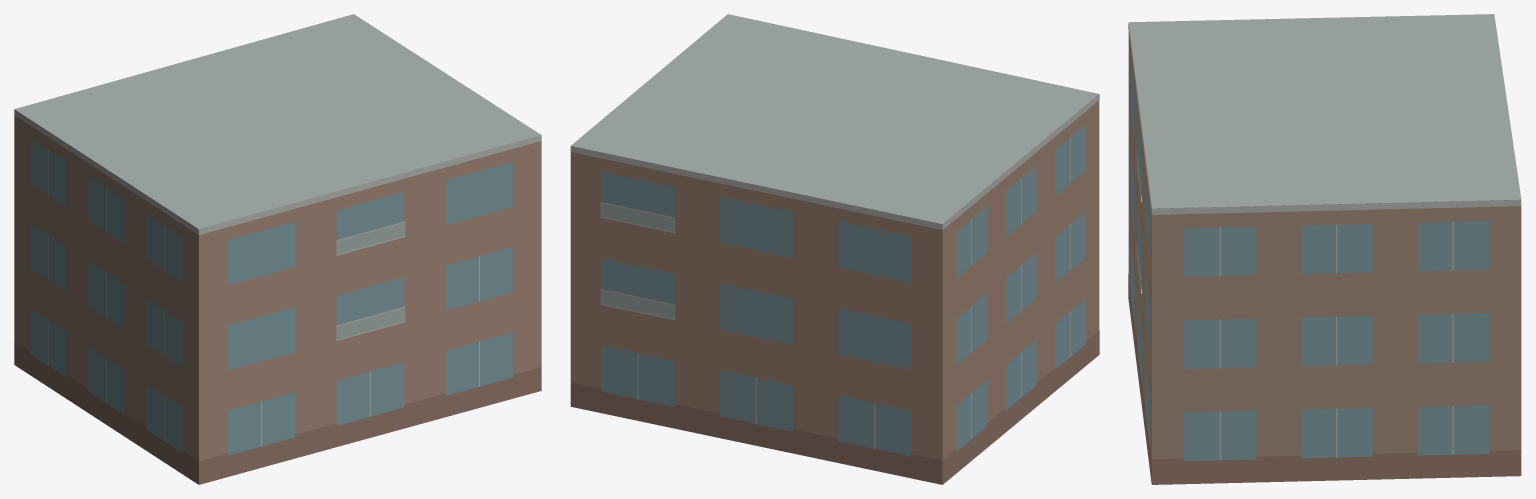
Rendered from survey-upis-33018037.glb.
The picture shows the model from 3 angles, left to right: view 1: azimuth 30°, elevation 25°; view 2: azimuth 150°, elevation 25°; view 3: azimuth 270°, elevation 25°; orthographic projection. The views are drawn at different scales.
Parts seen in each view (by area): view 1: survey-upis-33018037.tmp; view 2: survey-upis-33018037.tmp; view 3: survey-upis-33018037.tmp.
Boxes of the visible parts, box(x1,y1,x2,y2) form: survey-upis-33018037.tmp: box(14, 14, 541, 484); survey-upis-33018037.tmp: box(570, 14, 1099, 484); survey-upis-33018037.tmp: box(1128, 14, 1521, 484).
Bounding box in the file's own units: 15.87 × 10.5 × 13.54.
